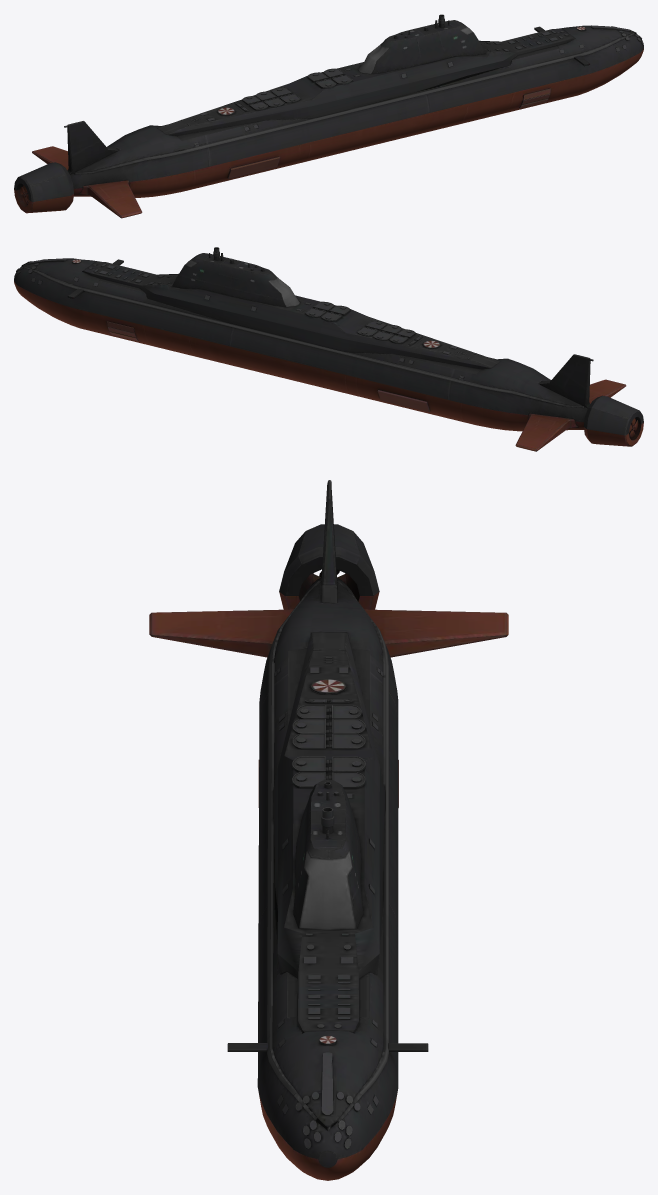
File: ru-yasen.glb
3 renders of one model, top to bottom at view 1: azimuth 30°, elevation 25°; view 2: azimuth 150°, elevation 25°; view 3: azimuth 270°, elevation 25°, orthographic. The views are drawn at different scales.
Parts seen in each view (by area): view 1: root; view 2: root; view 3: root.
Boxes of the visible parts, x1,y1,x2,y2 form: root: [14, 14, 643, 218]; root: [14, 247, 643, 451]; root: [149, 480, 508, 1180].
Size of the model in its own units: 139 by 23.43 by 34.92.
1 material, 1 textured.
